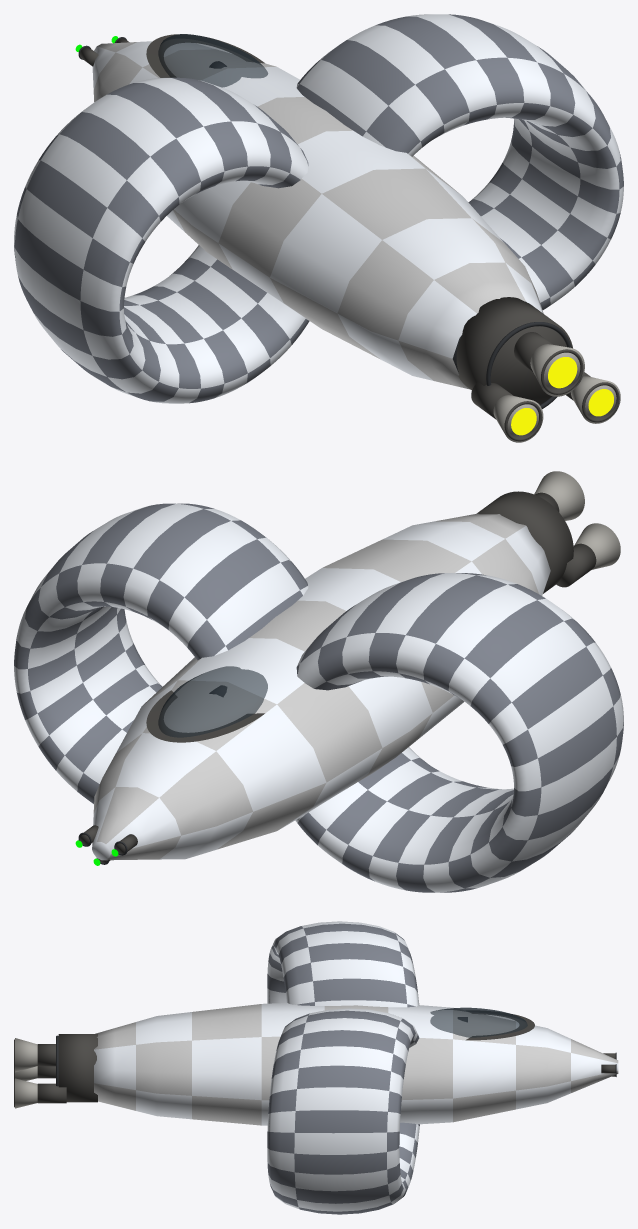
The model's file is Ship_TwoHoop_795072.glb.
The picture shows the model from 3 angles, top to bottom: view 1: azimuth 30°, elevation 25°; view 2: azimuth 150°, elevation 25°; view 3: azimuth 270°, elevation 25°; orthographic projection. The views are drawn at different scales.
Visible parts, largest first — view 1: Hoop_Left_StructuralRing_YAxisHole_CenterTangent_AftSwept, Fuselage_MainCenteredHull_CenterOfMassAtOrigin, Hoop_Right_StructuralRing_YAxisHole_CenterTangent_AftSwept, EngineBlock_AftHullIntegratedMountPlate, CanopyGlass_LowForwardPodDome, EngineEmitter, CanopyFrame_LowInsetOvalRim, EngineBell_CenterUpper_AftHullBurnishedNozzle, EngineBell_LeftLower_AftHullBurnishedNozzle, EngineBell_RightLower_AftHullBurnishedNozzle, EngineThroat_LeftLower_AftHullDarkSocket, EngineBlock_AftHullDarkTrimRing (+1 smaller); view 2: Hoop_Left_StructuralRing_YAxisHole_CenterTangent_AftSwept, Fuselage_MainCenteredHull_CenterOfMassAtOrigin, Hoop_Right_StructuralRing_YAxisHole_CenterTangent_AftSwept, CanopyGlass_LowForwardPodDome, EngineBlock_AftHullIntegratedMountPlate, CanopyFrame_LowInsetOvalRim, EngineBell_CenterUpper_AftHullBurnishedNozzle, EngineBell_LeftLower_AftHullBurnishedNozzle, EngineThroat_LeftLower_AftHullDarkSocket; view 3: Fuselage_MainCenteredHull_CenterOfMassAtOrigin, Hoop_Right_StructuralRing_YAxisHole_CenterTangent_AftSwept, Hoop_Left_StructuralRing_YAxisHole_CenterTangent_AftSwept, EngineBlock_AftHullIntegratedMountPlate, CanopyGlass_LowForwardPodDome, CanopyFrame_LowInsetOvalRim, EngineBell_CenterUpper_AftHullBurnishedNozzle, EngineThroat_RightLower_AftHullDarkSocket, EngineBell_RightLower_AftHullBurnishedNozzle, EngineThroat_CenterUpper_AftHullDarkSocket.
Boxes of the visible parts, x1=… form: Hoop_Left_StructuralRing_YAxisHole_CenterTangent_AftSwept: x1=14, y1=77, x2=309, y2=403; Fuselage_MainCenteredHull_CenterOfMassAtOrigin: x1=92, y1=41, x2=543, y2=389; Hoop_Right_StructuralRing_YAxisHole_CenterTangent_AftSwept: x1=296, y1=14, x2=623, y2=309; EngineBlock_AftHullIntegratedMountPlate: x1=456, y1=297, x2=572, y2=408; CanopyGlass_LowForwardPodDome: x1=158, y1=34, x2=267, y2=87; EngineEmitter: x1=511, y1=357, x2=613, y2=435; CanopyFrame_LowInsetOvalRim: x1=146, y1=34, x2=264, y2=77; EngineBell_CenterUpper_AftHullBurnishedNozzle: x1=530, y1=344, x2=584, y2=396; EngineBell_LeftLower_AftHullBurnishedNozzle: x1=493, y1=395, x2=543, y2=442; EngineBell_RightLower_AftHullBurnishedNozzle: x1=571, y1=376, x2=620, y2=423; EngineThroat_LeftLower_AftHullDarkSocket: x1=471, y1=382, x2=513, y2=419; EngineBlock_AftHullDarkTrimRing: x1=486, y1=322, x2=571, y2=408; Hoop_Left_StructuralRing_YAxisHole_CenterTangent_AftSwept: x1=295, y1=573, x2=623, y2=892; Fuselage_MainCenteredHull_CenterOfMassAtOrigin: x1=92, y1=513, x2=550, y2=860; Hoop_Right_StructuralRing_YAxisHole_CenterTangent_AftSwept: x1=14, y1=503, x2=308, y2=803; CanopyGlass_LowForwardPodDome: x1=158, y1=666, x2=267, y2=737; EngineBlock_AftHullIntegratedMountPlate: x1=477, y1=491, x2=573, y2=593; CanopyFrame_LowInsetOvalRim: x1=146, y1=690, x2=264, y2=742; EngineBell_CenterUpper_AftHullBurnishedNozzle: x1=534, y1=471, x2=584, y2=520; EngineBell_LeftLower_AftHullBurnishedNozzle: x1=574, y1=523, x2=620, y2=569; EngineThroat_LeftLower_AftHullDarkSocket: x1=556, y1=543, x2=596, y2=587; Fuselage_MainCenteredHull_CenterOfMassAtOrigin: x1=94, y1=1003, x2=618, y2=1125; Hoop_Right_StructuralRing_YAxisHole_CenterTangent_AftSwept: x1=267, y1=1008, x2=419, y2=1214; Hoop_Left_StructuralRing_YAxisHole_CenterTangent_AftSwept: x1=267, y1=921, x2=419, y2=1007; EngineBlock_AftHullIntegratedMountPlate: x1=58, y1=1034, x2=97, y2=1102; CanopyGlass_LowForwardPodDome: x1=430, y1=1007, x2=527, y2=1037; CanopyFrame_LowInsetOvalRim: x1=465, y1=1011, x2=534, y2=1040; EngineBell_CenterUpper_AftHullBurnishedNozzle: x1=15, y1=1038, x2=37, y2=1072; EngineThroat_RightLower_AftHullDarkSocket: x1=37, y1=1083, x2=66, y2=1103; EngineBell_RightLower_AftHullBurnishedNozzle: x1=15, y1=1078, x2=37, y2=1108; EngineThroat_CenterUpper_AftHullDarkSocket: x1=37, y1=1044, x2=55, y2=1066.
Bounding box in the file's own units: 3.87 × 1.94 × 5.73.
